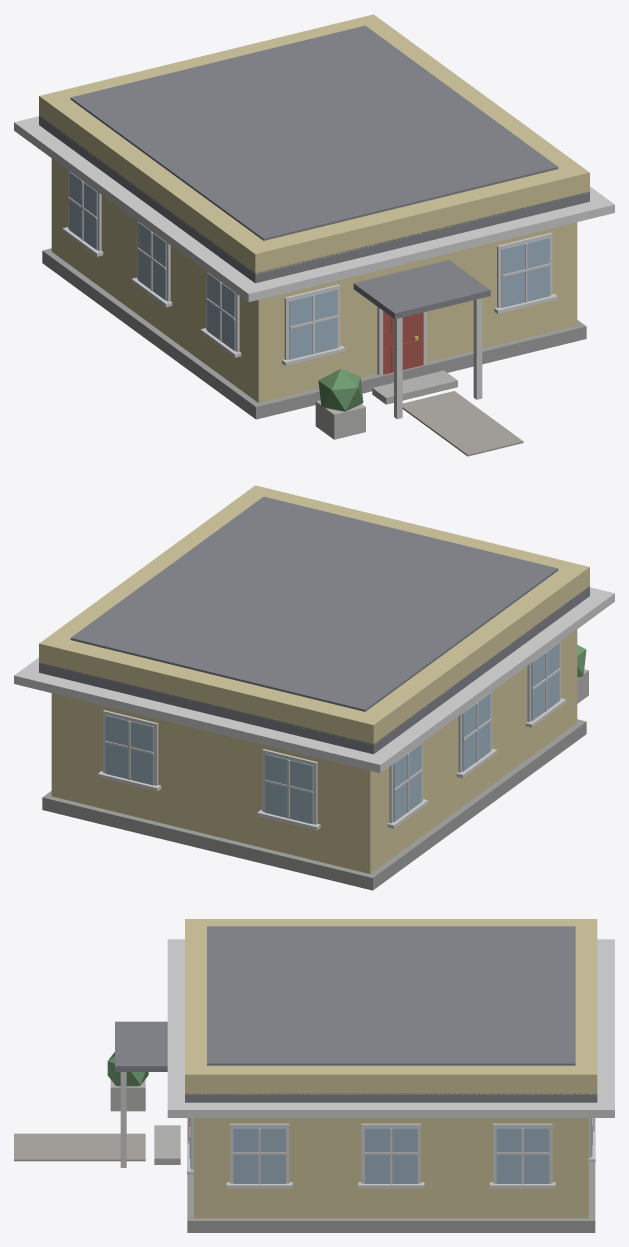
The model's file is Villa_07.glb.
3 views of the same model, one above another, from view 1: azimuth 30°, elevation 25°; view 2: azimuth 150°, elevation 25°; view 3: azimuth 270°, elevation 25° (orthographic). The views are drawn at different scales.
Visible parts, largest first — view 1: Villa_07; view 2: Villa_07; view 3: Villa_07.
Part boxes in pixels (box(x1,y1,x2,y2)): Villa_07: box(14, 14, 614, 456); Villa_07: box(14, 485, 614, 890); Villa_07: box(14, 919, 614, 1232).
Bounding box in the file's own units: 9.2 × 4.05 × 13.7.
